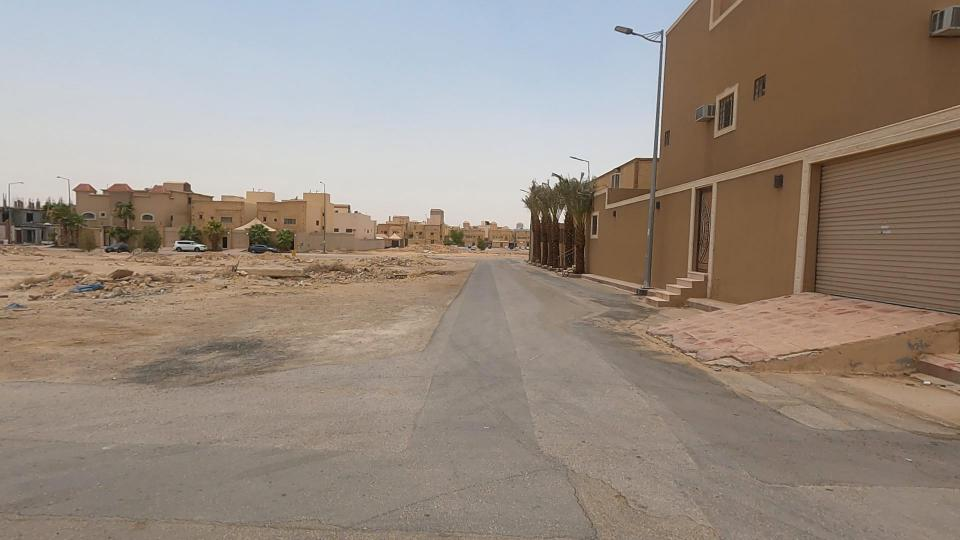GARBAGE: (16, 256, 159, 330), (0, 268, 62, 337)
